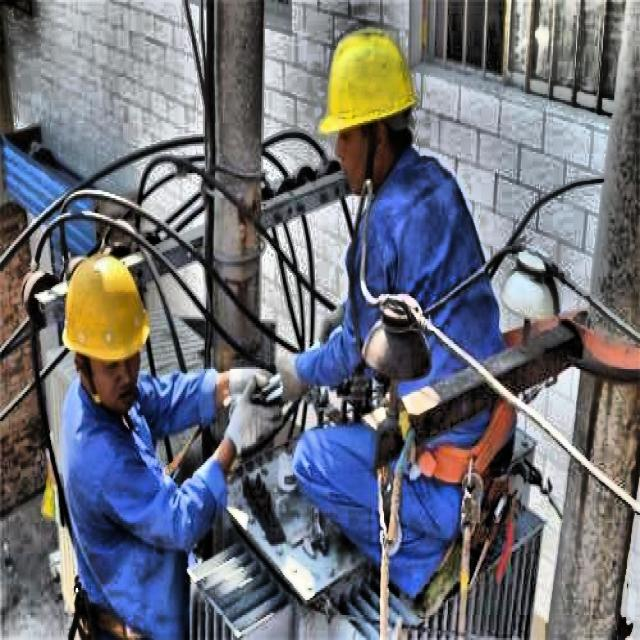helmet: (315, 12, 424, 204), (56, 244, 156, 415)
